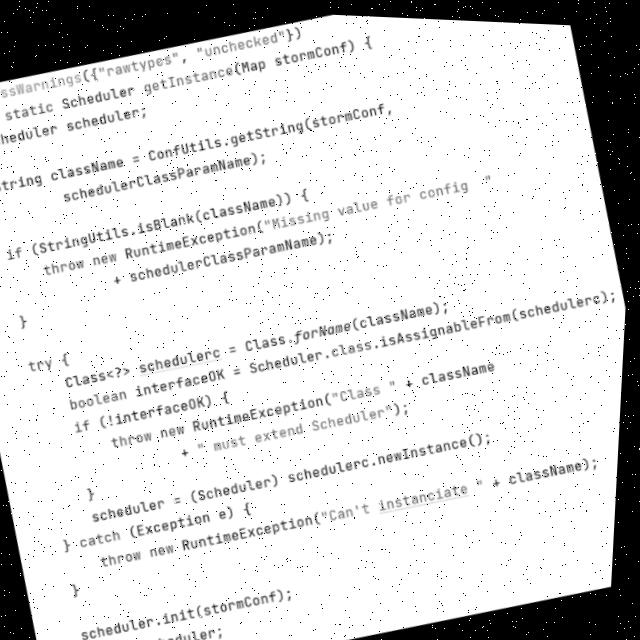code_screen: (0, 15, 625, 640)
